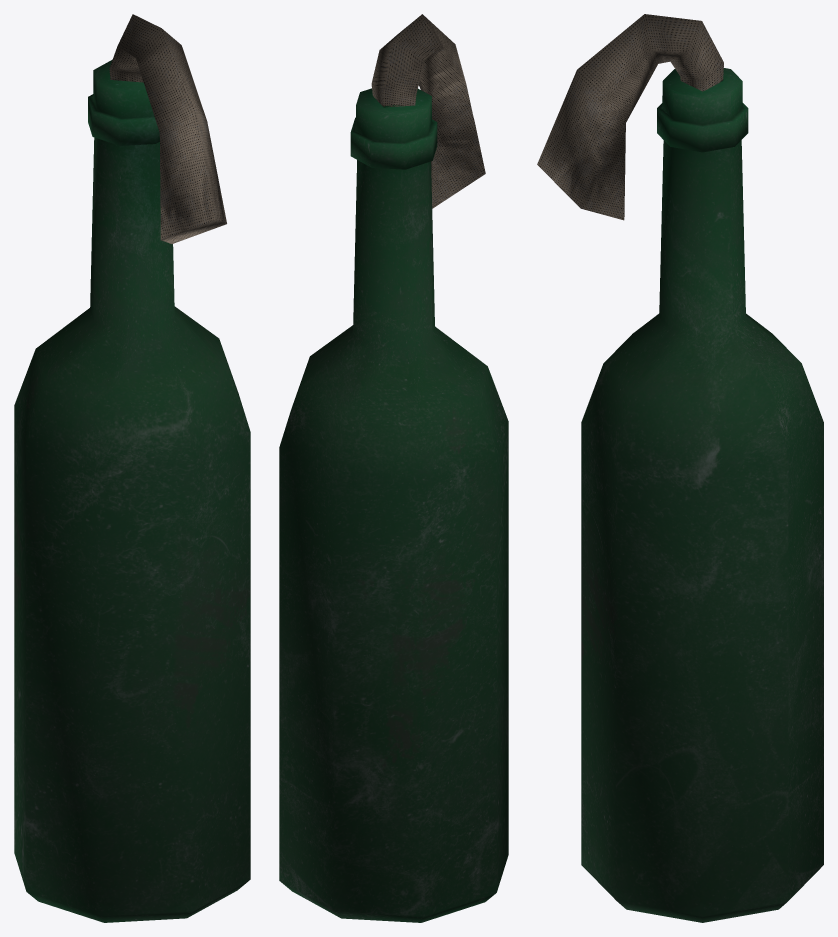
File: PVP_Molotov_0001_XS.fbx
3 views of the same model, side by side, from view 1: azimuth 30°, elevation 25°; view 2: azimuth 150°, elevation 25°; view 3: azimuth 270°, elevation 25° (orthographic). The views are drawn at different scales.
Visible parts, largest first — view 1: PVP_Molotov_0001_XS; view 2: PVP_Molotov_0001_XS; view 3: PVP_Molotov_0001_XS.
Boxes of the visible parts, left/top/right/bottom form: PVP_Molotov_0001_XS: left=14, top=14, right=250, bottom=922; PVP_Molotov_0001_XS: left=279, top=14, right=508, bottom=922; PVP_Molotov_0001_XS: left=537, top=14, right=823, bottom=922.
Size of the model in its own units: 7.67 by 30.13 by 9.07.
Materials: 1 (1 with a texture image).
